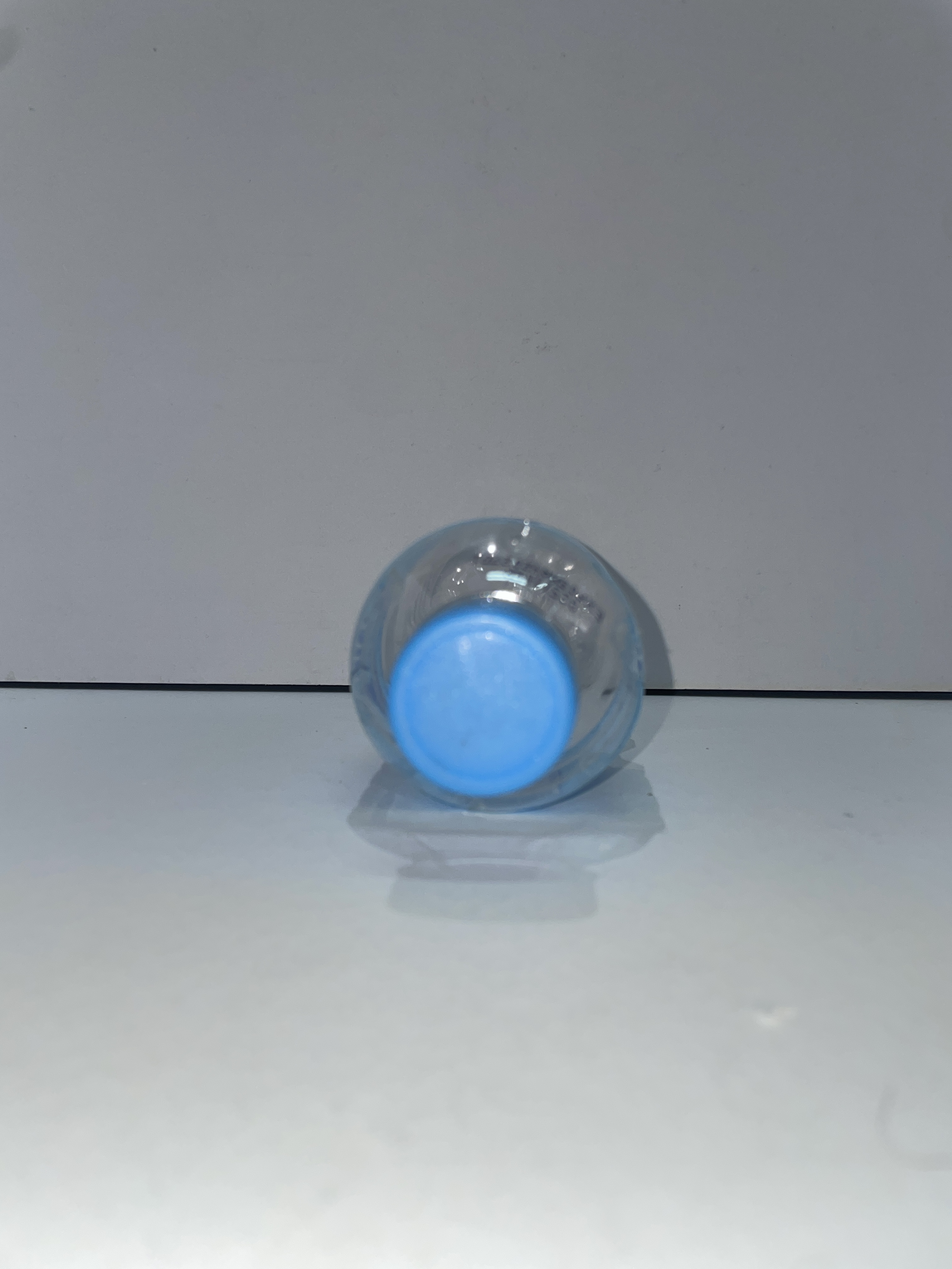Nature spring 1000ml: (351, 516, 644, 812)
